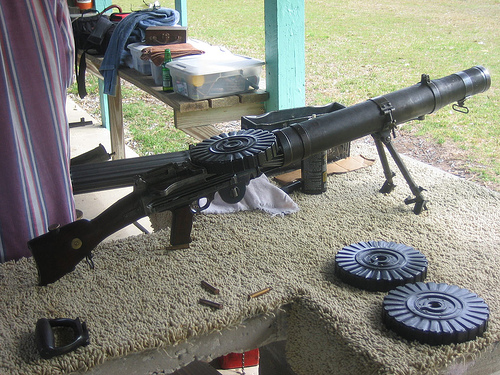rifle: (70, 65, 488, 259)
